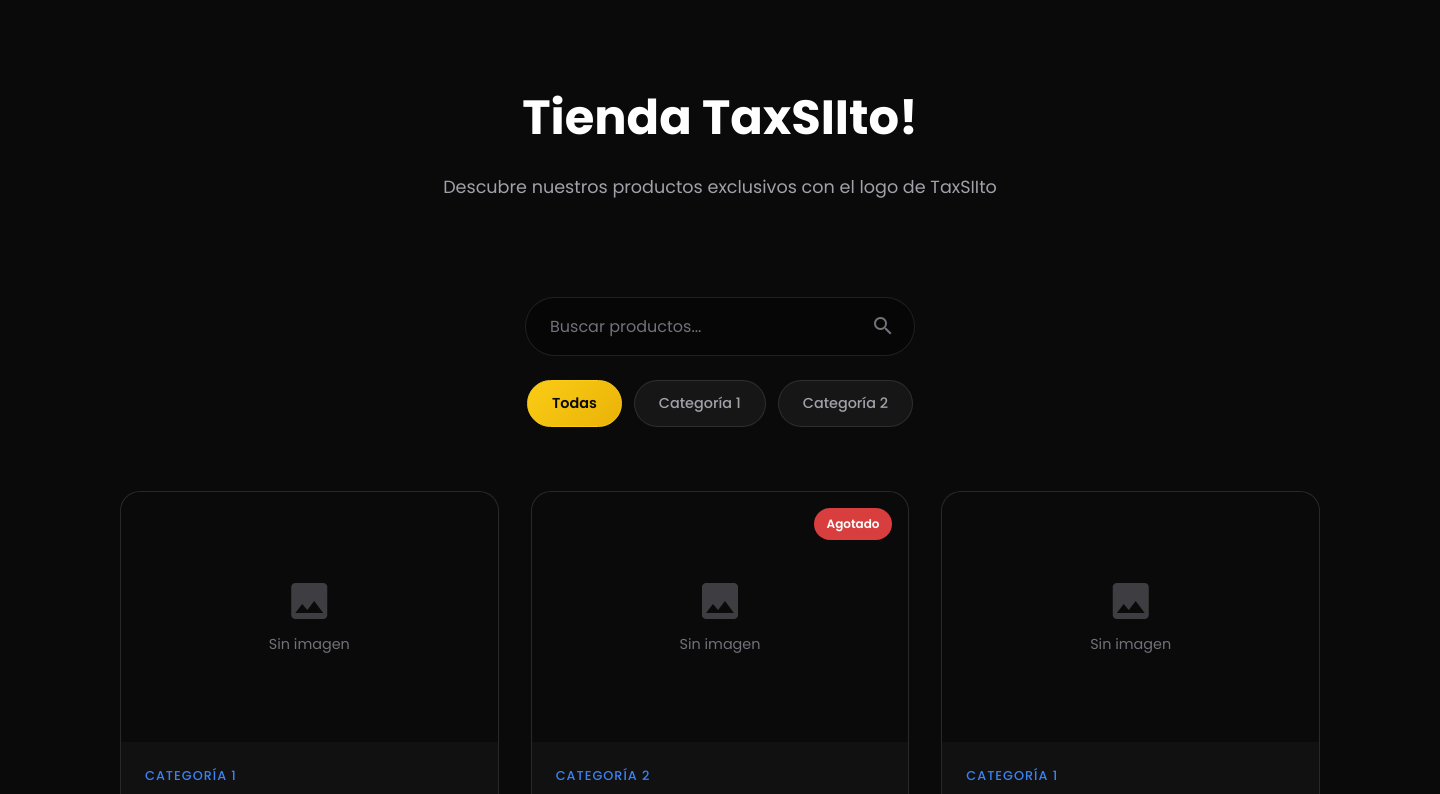
Tienda › Filtrado de productos › debe mostrar todos los productos cuando se selecciona "Todas"
Note: Filtrar por categoría primero
Click the button "Categoría 1". click: (700, 403)
box: [634,380,766,427]
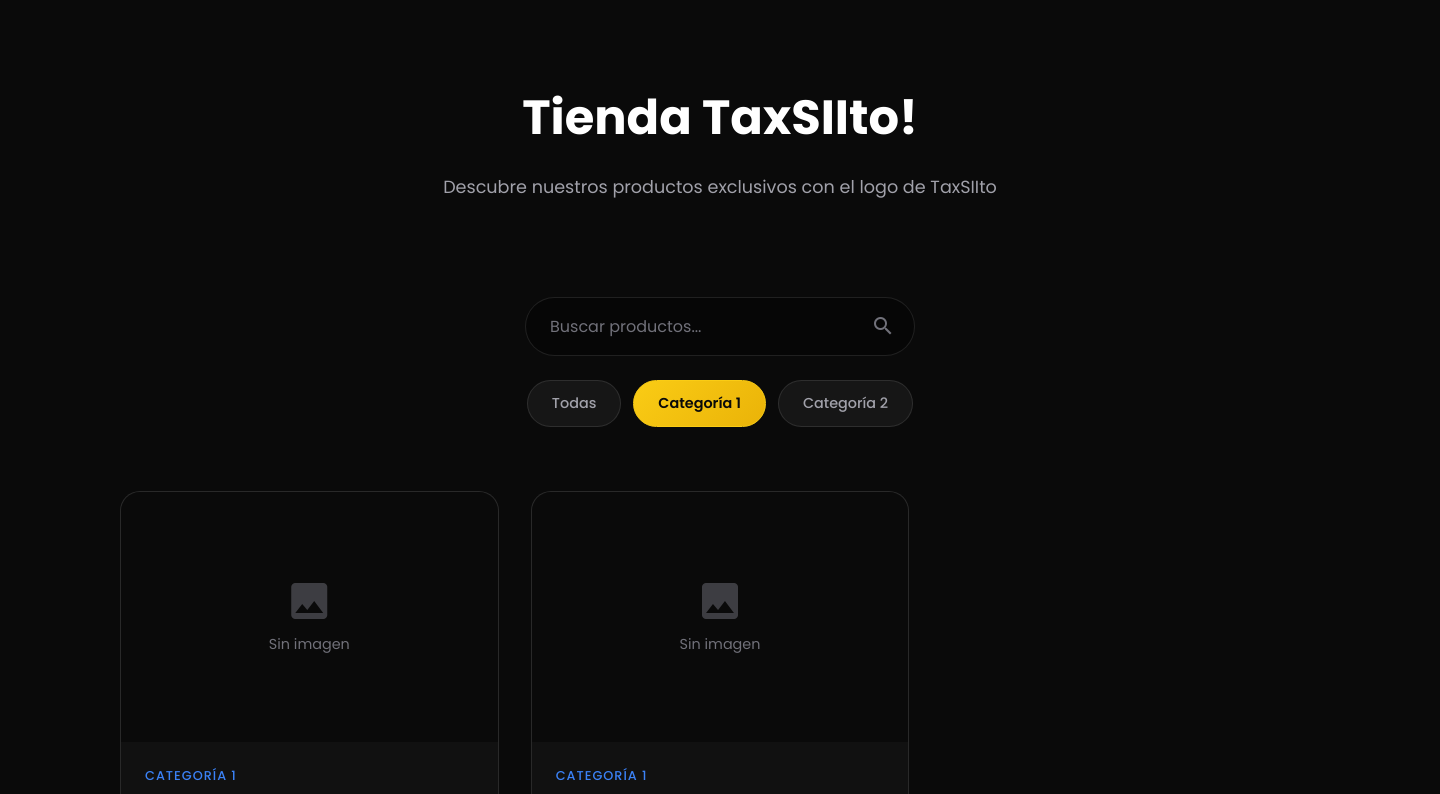
Note: Seleccionar "Todas"
Click the button "Todas". click: (574, 403)
box: [527,380,621,427]
(page scrolled)
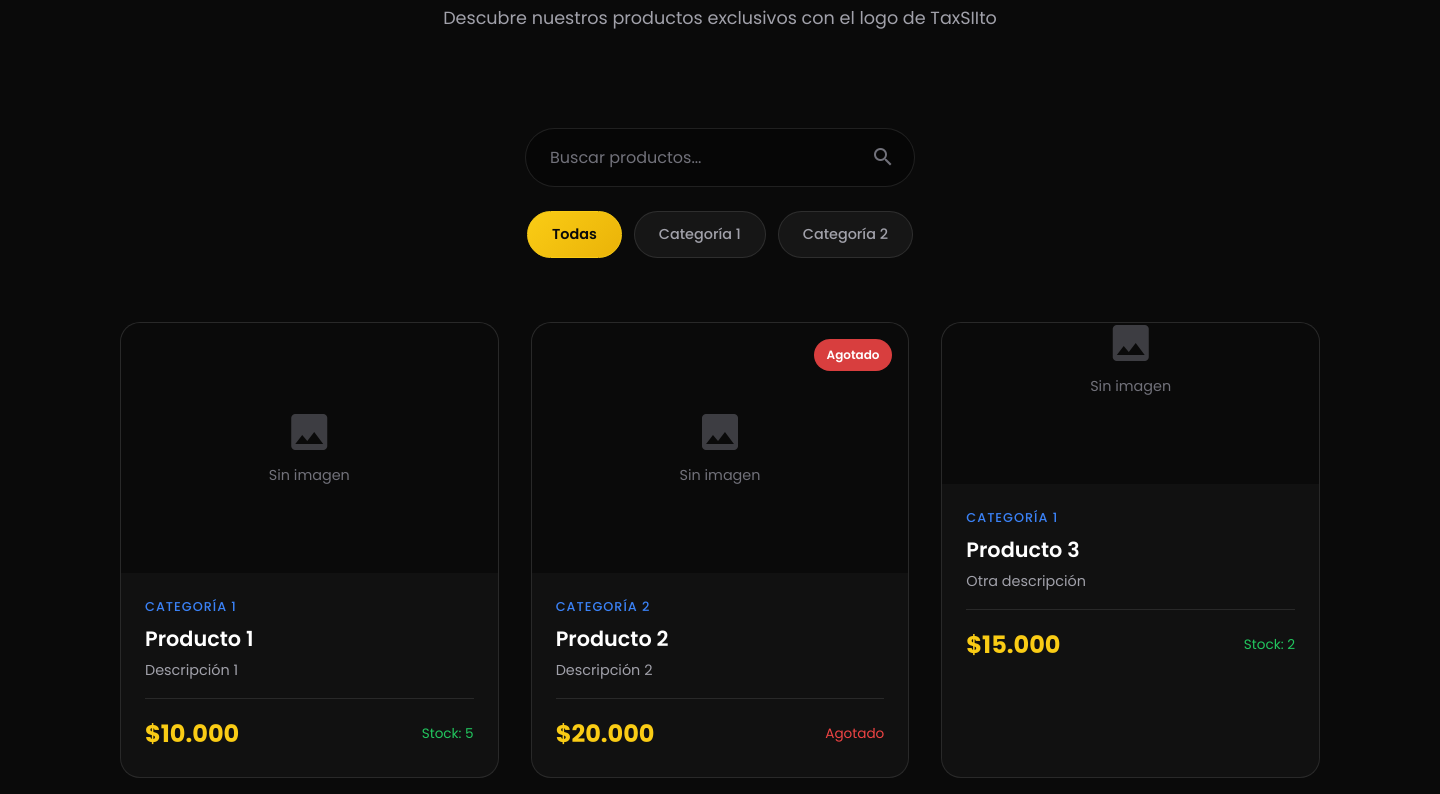
Check: the heading "Producto 1" is shown, box [145,624,254,653]
Check: the heading "Producto 2" is shown, box [556,624,669,653]
